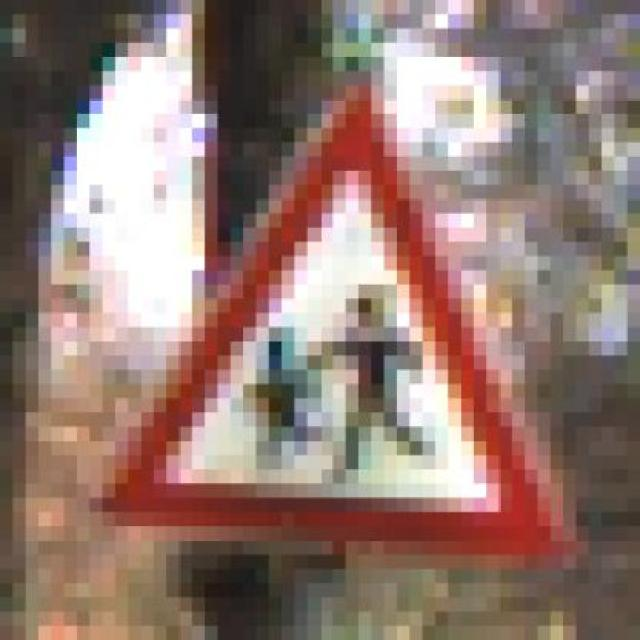Beware of children: (90, 57, 576, 569)
